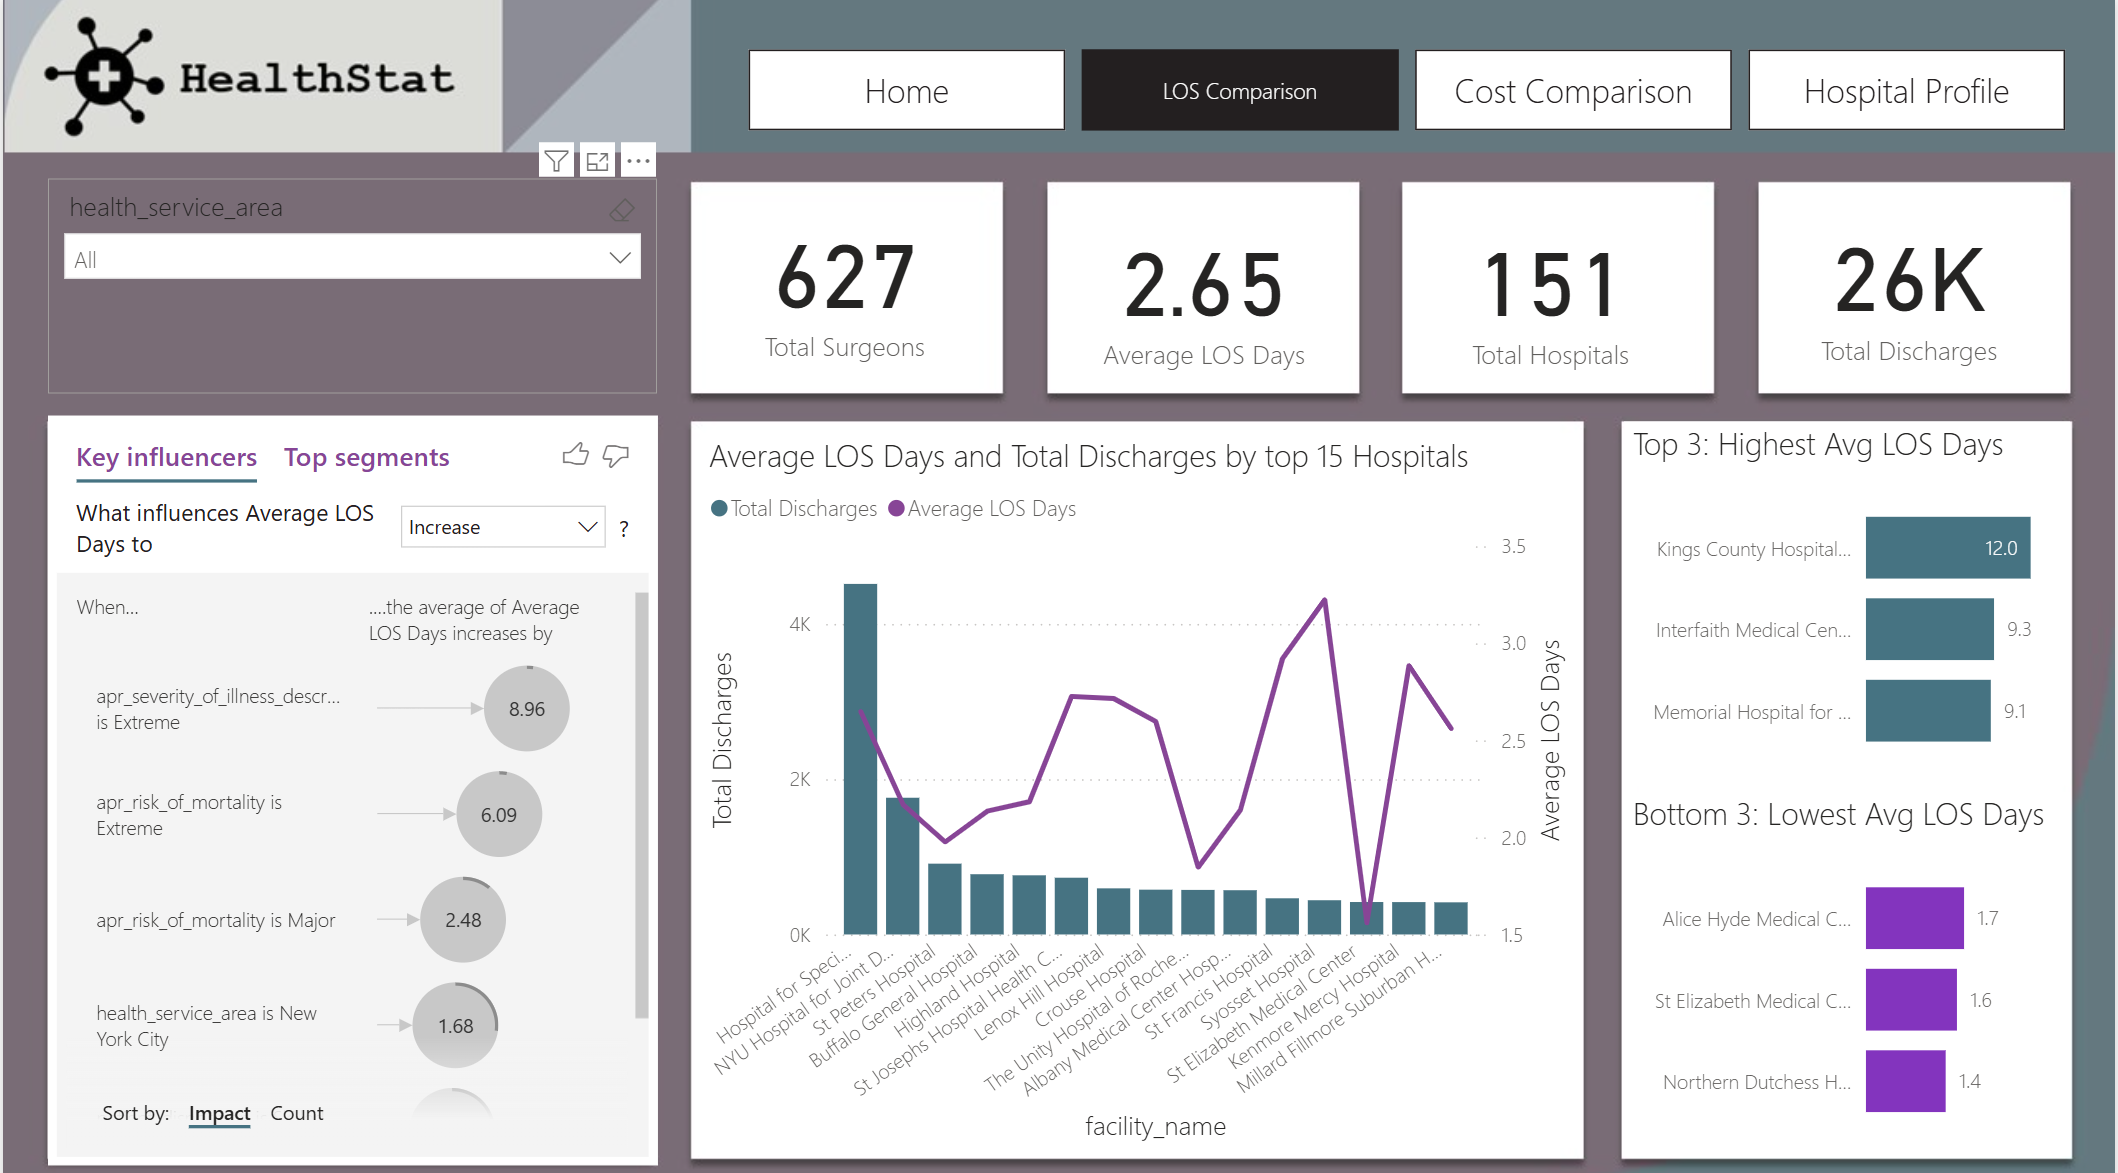

The page's visual inventory and layout, read from the dashboard file:
{"tool":"powerbi","page":{"name":"LOS Comparison","canvas":[1280,720],"ordinal":1},"visuals":[{"type":"lineStackedColumnComboChart","title":"Average LOS Days and Total Discharges by top 15 Hospitals","fields":{"Category":["hospital_discharges.facility_name"],"Y":["_Measures.Total Discharges"],"Y2":["_Measures.Average LOS Days"]},"box":[422.6,264.8,532.4,433.6],"z":1000},{"type":"slicer","fields":{"Values":["hospital_discharges.health_service_area"]},"box":[27.4,109.8,369.1,130.4],"z":2000},{"type":"keyDriversVisual","fields":{"ExplainBy":["hospital_discharges.apr_risk_of_mortality","hospital_discharges.apr_severity_of_illness_description","hospital_discharges.ccs_diagnosis_description","hospital_discharges.patient_disposition","hospital_discharges.gender","hospital_discharges.Age Bins","surgical_program_size_summary.Surgical Program Size","hospital_discharges.health_service_area"],"Target":["_Measures.Average LOS Days"]},"box":[27.4,253.9,369.1,454.2],"z":3000},{"type":"clusteredBarChart","title":"Hospitals with Highest Average Length of Stay","fields":{"Category":["hospital_discharges.facility_name"],"Y":["_Measures.Average LOS Days"]},"box":[982.7,257,270.1,220.5],"z":4000},{"type":"clusteredBarChart","title":"Hospitals with Lowest Average Length of Stay","fields":{"Category":["hospital_discharges.facility_name"],"Y":["_Measures.Average LOS Days"]},"box":[982.7,481.9,270.1,220.5],"z":5000},{"type":"card","fields":{"Values":["_Measures.Average LOS Days"]},"box":[640,115.7,174.3,124.3],"z":6000},{"type":"card","fields":{"Values":["_Measures.Total Hospitals"]},"box":[849.8,115.4,175.2,124.1],"z":7000},{"type":"card","fields":{"Values":["_Measures.Total Discharges"]},"box":[1067.4,112.4,175.2,124.1],"z":8000},{"type":"pageNavigator","box":[450,38.6,800,48.6],"z":9000},{"type":"card","fields":{"Values":["_Measures.Average LOS Days"]},"box":[422.9,112.9,174.3,124.3],"z":9001}]}

Visuals, with their boxes in screenshot pixels (x1, y1, x2, y2), scaled from the page's 1280x720 canvas onto the 2118x1173 screenshot:
"Average LOS Days and Total Discharges by top 15 Hospitals" lineStackedColumnComboChart: select_region(699, 431, 1580, 1138)
slicer - hospital_discharges.health_service_area: select_region(45, 179, 656, 391)
keyDriversVisual - hospital_discharges.apr_risk_of_mortality x hospital_discharges.apr_severity_of_illness_description: select_region(45, 414, 656, 1154)
"Hospitals with Highest Average Length of Stay" clusteredBarChart: select_region(1626, 419, 2073, 778)
"Hospitals with Lowest Average Length of Stay" clusteredBarChart: select_region(1626, 785, 2073, 1144)
card - _Measures.Average LOS Days: select_region(1059, 188, 1347, 391)
card - _Measures.Total Hospitals: select_region(1406, 188, 1696, 390)
card - _Measures.Total Discharges: select_region(1766, 183, 2056, 385)
pageNavigator: select_region(745, 63, 2068, 142)
card - _Measures.Average LOS Days: select_region(700, 184, 988, 386)
